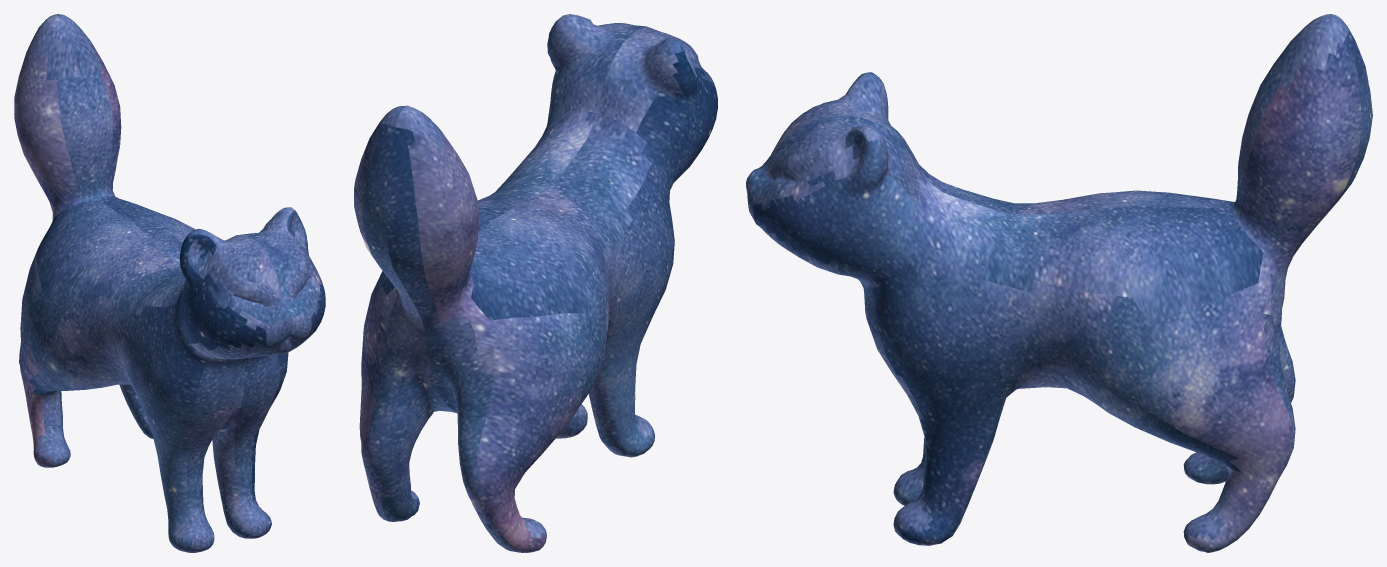
File: cat_fatty_2.fbx
3 renders of one model, left to right at view 1: azimuth 30°, elevation 25°; view 2: azimuth 150°, elevation 25°; view 3: azimuth 270°, elevation 25°, orthographic. The views are drawn at different scales.
Parts seen in each view (by area): view 1: cat_fatty; view 2: cat_fatty; view 3: cat_fatty.
Boxes of the visible parts, x1,y1,x2,y2 form: cat_fatty: (14, 14, 325, 552); cat_fatty: (354, 14, 717, 552); cat_fatty: (746, 14, 1372, 552).
Bounding box in the file's own units: 0.3562 × 0.7478 × 0.8387.
Materials: 1 (1 with a texture image).
